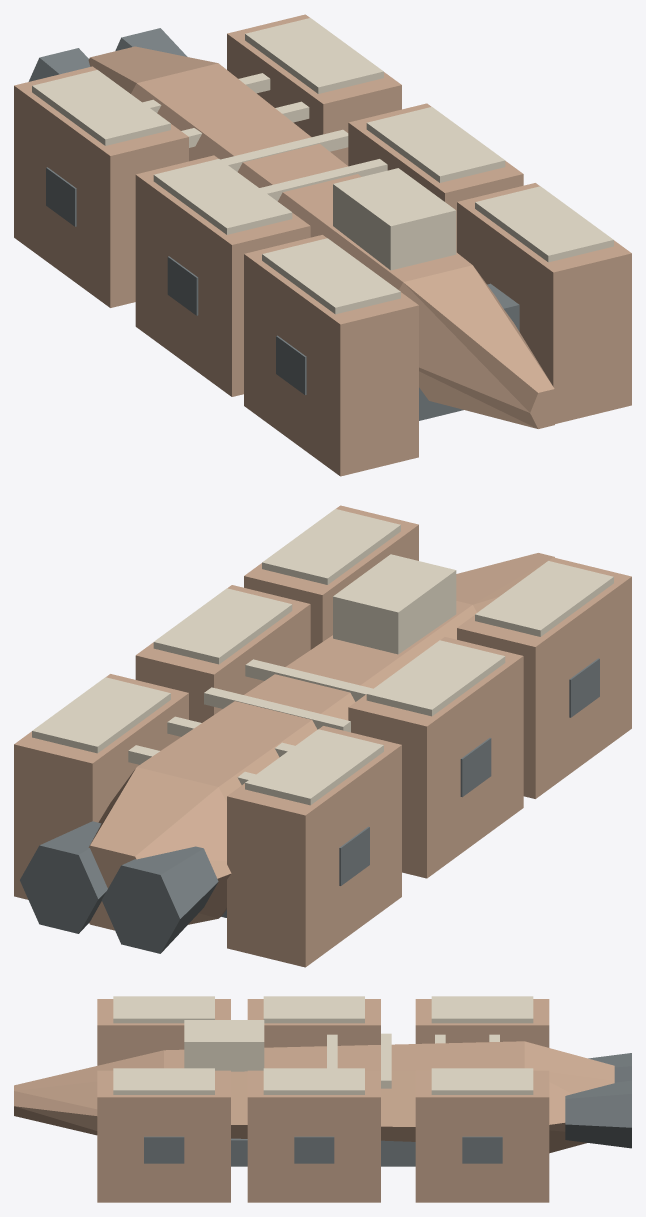
The picture shows the model from 3 angles, top to bottom: view 1: azimuth 30°, elevation 25°; view 2: azimuth 150°, elevation 25°; view 3: azimuth 270°, elevation 25°; orthographic projection. The views are drawn at different scales.
Size of the model in its own units: 3.64 by 2.08 by 9.54.
